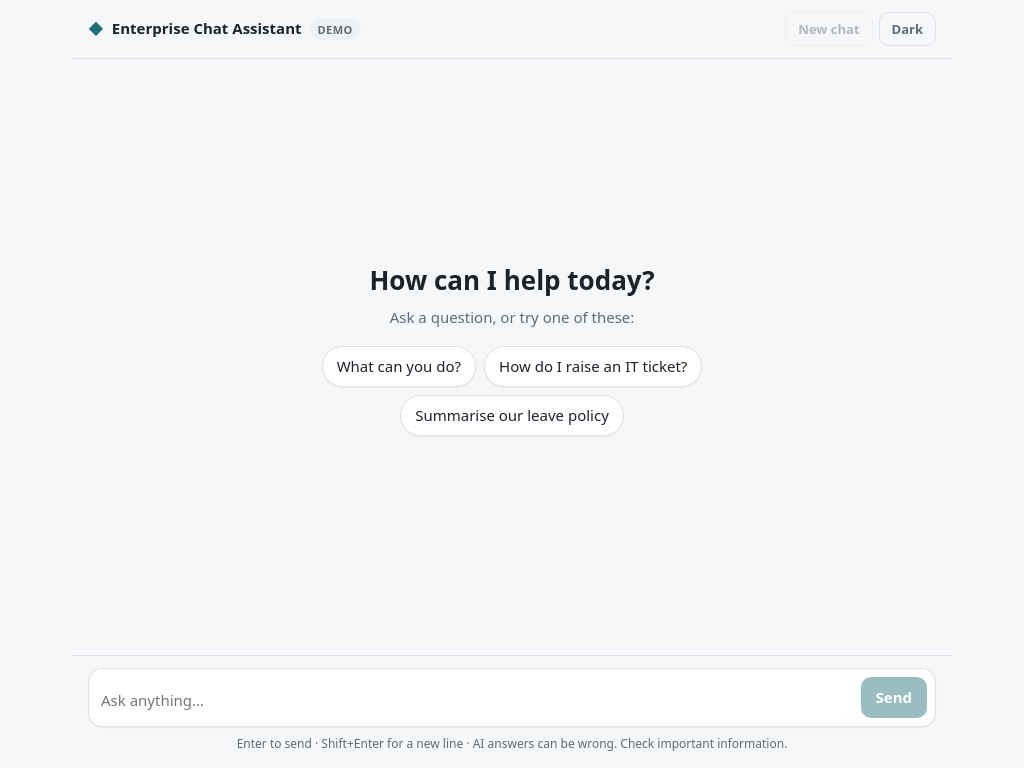
Test case: App › Stop cancels a reply that is still streaming
In the text box named "Message": (475, 701) 97,683 -> 852,718, type "long question"
Then press Enter
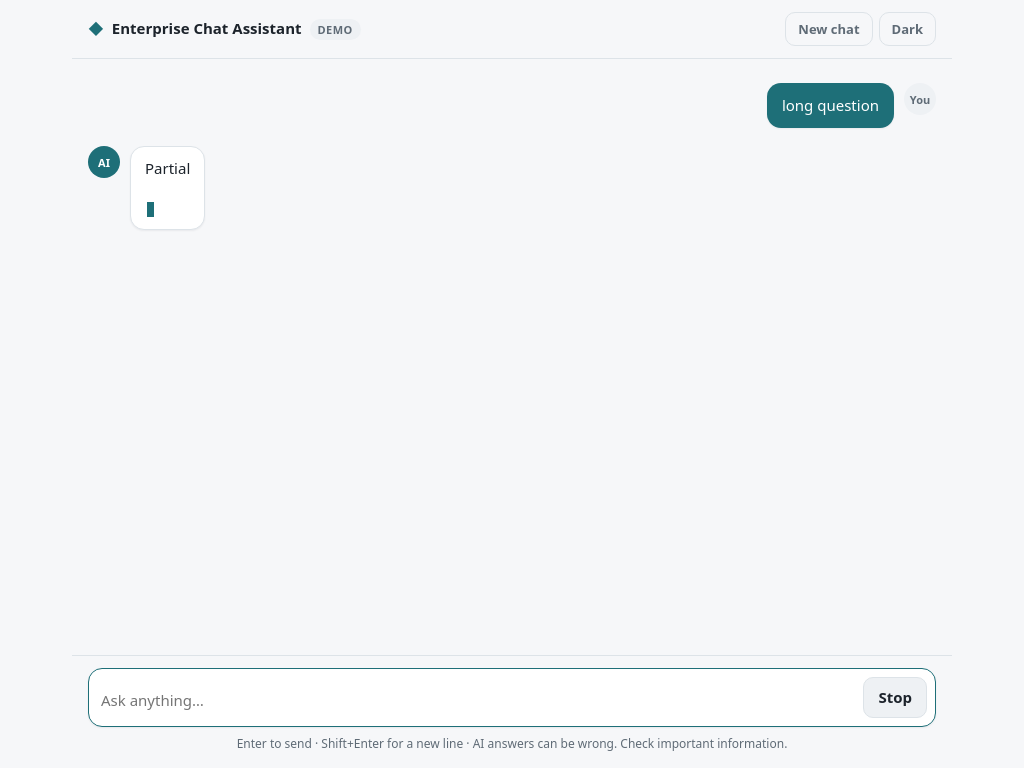
Click the button "Stop": (895, 698) 863,677 -> 927,718
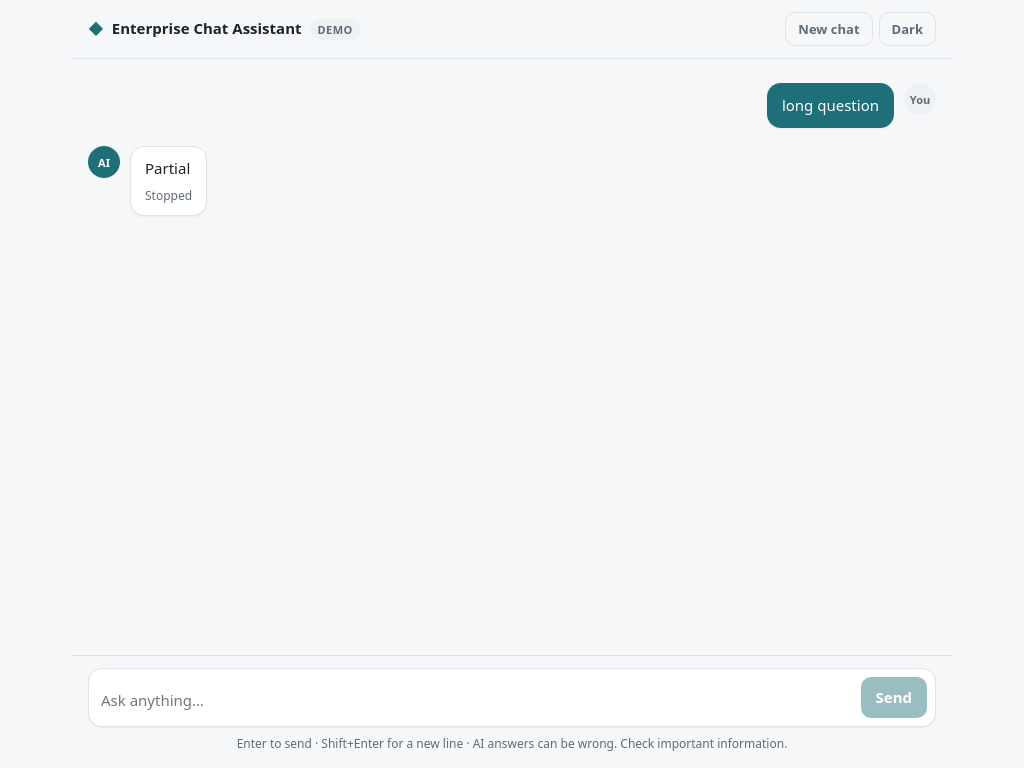
Expected: the text "Partial" is shown, 145,157 -> 192,181
Expected: the text "Stopped" is shown, 145,187 -> 192,205
Expected: the button "Send" is shown, 860,677 -> 927,718
